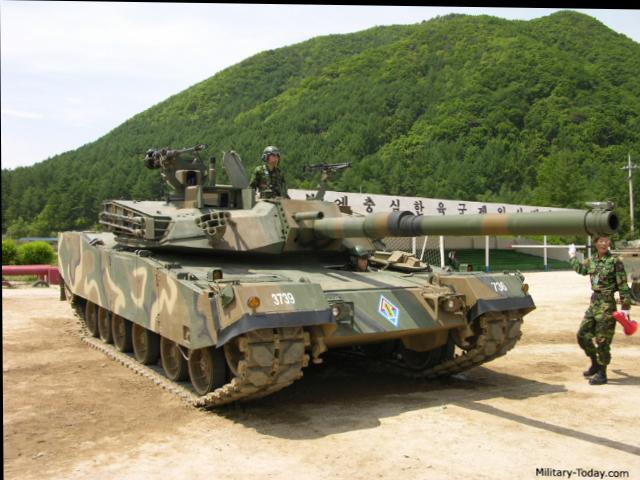other: (565, 231, 639, 387), (250, 131, 288, 197)
tank: (46, 159, 535, 408)
